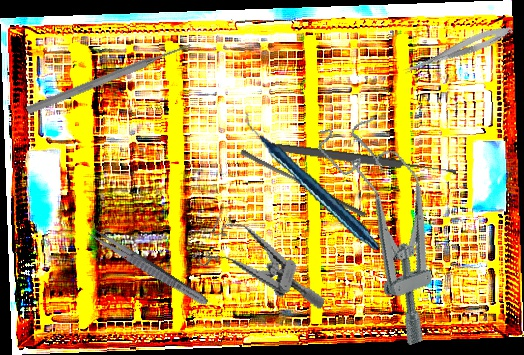Dressing Forceps: (85, 225, 211, 309)
Handpiece: (243, 93, 382, 269)
Micro Scissor: (401, 20, 515, 82)
Pusher: (25, 39, 193, 117), (237, 148, 370, 219)
Speculum: (312, 104, 472, 353), (188, 212, 339, 310)
Surgical Spoon: (271, 141, 457, 178)
